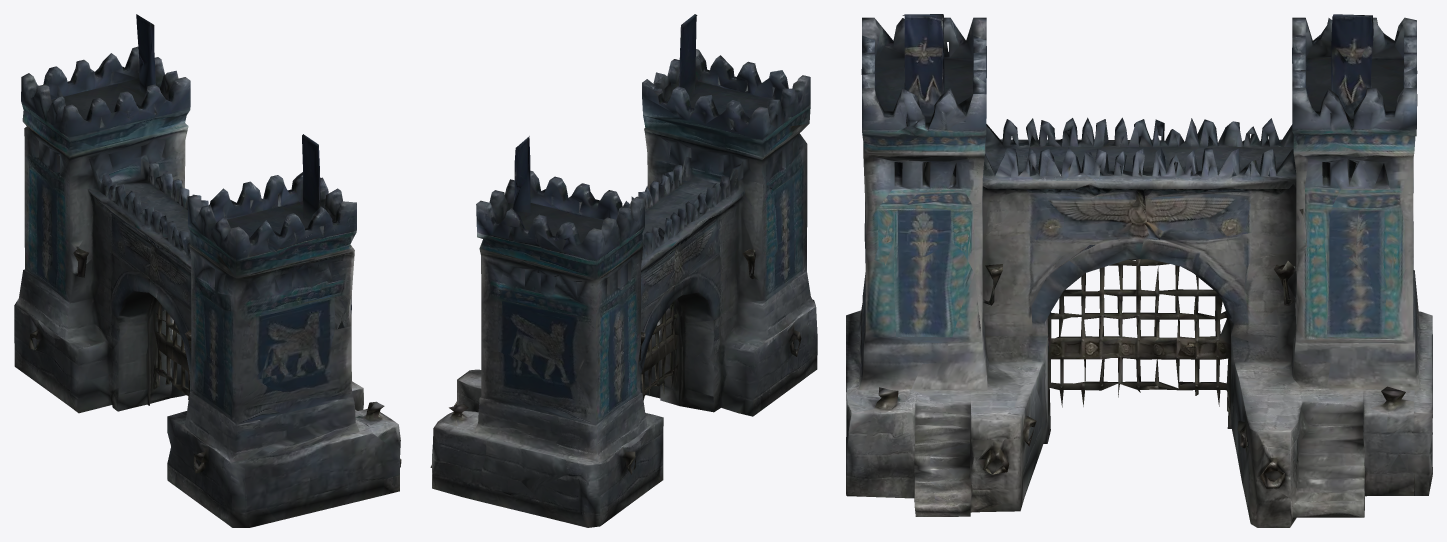
The model's file is water_gate.glb.
The picture shows the model from 3 angles, left to right: view 1: azimuth 30°, elevation 25°; view 2: azimuth 150°, elevation 25°; view 3: azimuth 270°, elevation 25°; orthographic projection. The views are drawn at different scales.
Parts seen in each view (by area): view 1: tripo_node_abbc400f-397a-4296-9996-90fd1f67b5d4; view 2: tripo_node_abbc400f-397a-4296-9996-90fd1f67b5d4; view 3: tripo_node_abbc400f-397a-4296-9996-90fd1f67b5d4.
Boxes of the visible parts, x1,y1,x2,y2 form: tripo_node_abbc400f-397a-4296-9996-90fd1f67b5d4: [14, 14, 401, 527]; tripo_node_abbc400f-397a-4296-9996-90fd1f67b5d4: [430, 14, 817, 527]; tripo_node_abbc400f-397a-4296-9996-90fd1f67b5d4: [846, 14, 1432, 527].
Size of the model in its own units: 0.5223 by 0.8411 by 0.9787.
Materials: 1 (1 with a texture image).
